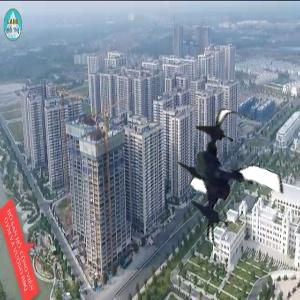drone: (159, 112, 292, 245)
